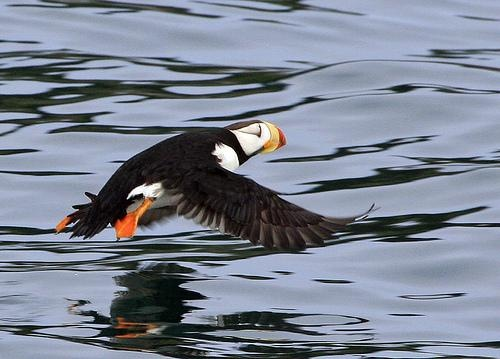bird: (55, 120, 377, 250)
